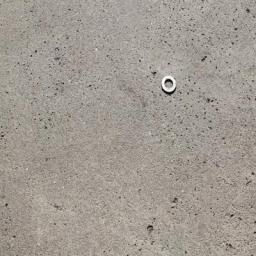FOD: (159, 74, 180, 95)
